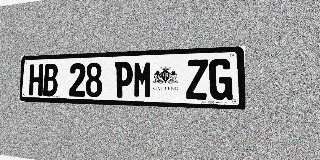2: (69, 63, 86, 97)
8: (85, 62, 103, 97)
B: (43, 64, 58, 96)
G: (209, 58, 233, 100)
H: (29, 64, 43, 96)
M: (133, 61, 152, 98)
P: (114, 61, 133, 98)
Z: (186, 59, 208, 100)
